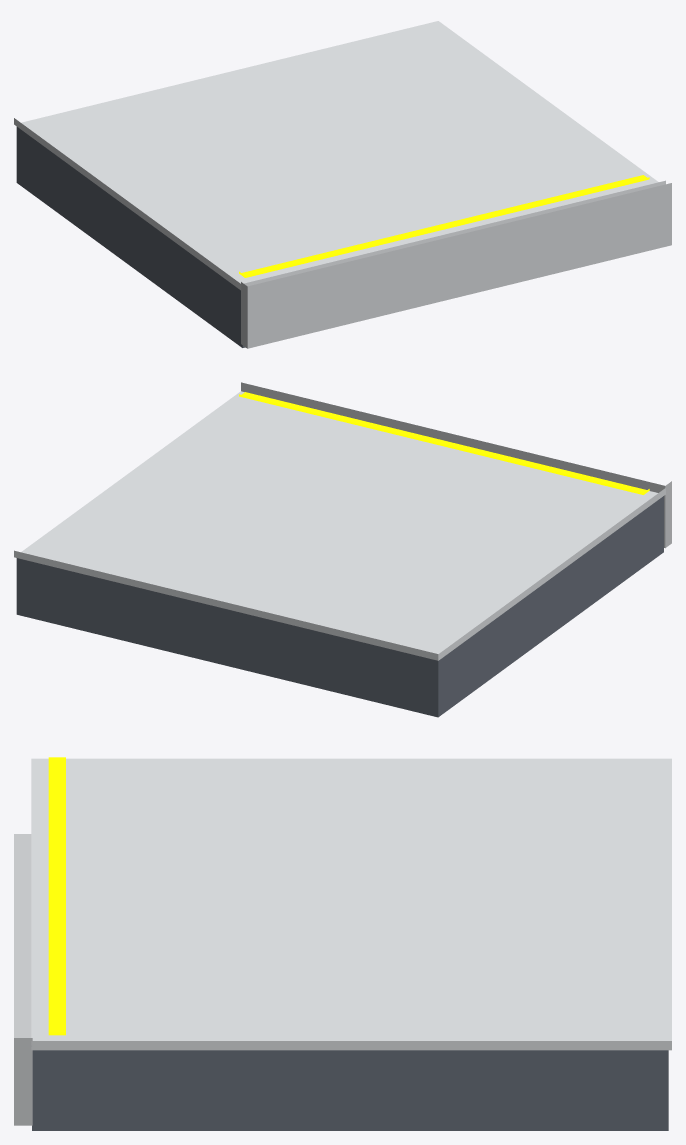
Rendered from ext_tram_platform_kerb_01.glb.
The picture shows the model from 3 angles, top to bottom: view 1: azimuth 30°, elevation 25°; view 2: azimuth 150°, elevation 25°; view 3: azimuth 270°, elevation 25°; orthographic projection. The views are drawn at different scales.
Visible parts, largest first — view 1: Deck, Nosing, Body, Edge_Light; view 2: Deck, Body, Nosing, Edge_Light; view 3: Deck, Body, Nosing, Edge_Light.
Boxes of the visible parts, x1,y1,x2,y2 form: Deck: [14, 21, 665, 290]; Nosing: [241, 183, 671, 348]; Body: [16, 127, 245, 347]; Edge_Light: [239, 175, 649, 277]; Deck: [14, 391, 665, 660]; Body: [16, 496, 663, 717]; Nosing: [241, 382, 671, 548]; Edge_Light: [239, 392, 649, 494]; Deck: [31, 758, 671, 1050]; Body: [32, 1050, 668, 1130]; Nosing: [14, 834, 32, 1125]; Edge_Light: [48, 757, 65, 1035].
Bounding box in the file's own units: 1.99 × 0.3 × 1.9.
